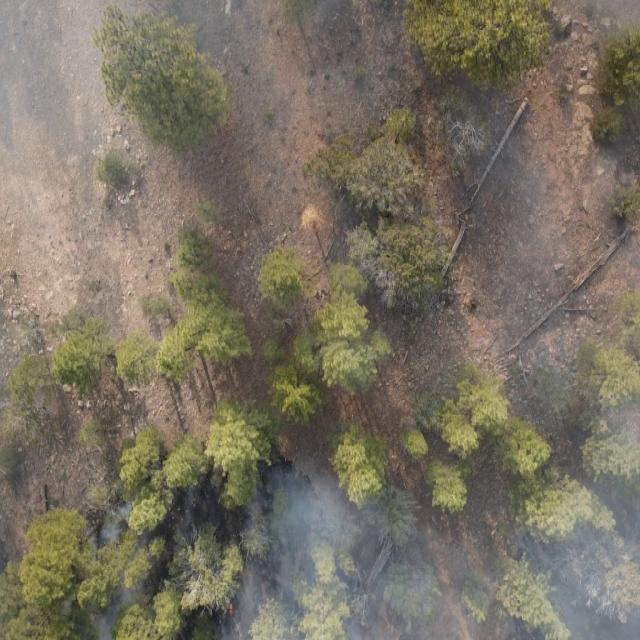fire: (228, 602, 236, 617)
smoke: (81, 454, 640, 640), (0, 0, 421, 172), (445, 105, 640, 330), (514, 331, 640, 454), (579, 0, 640, 50)
